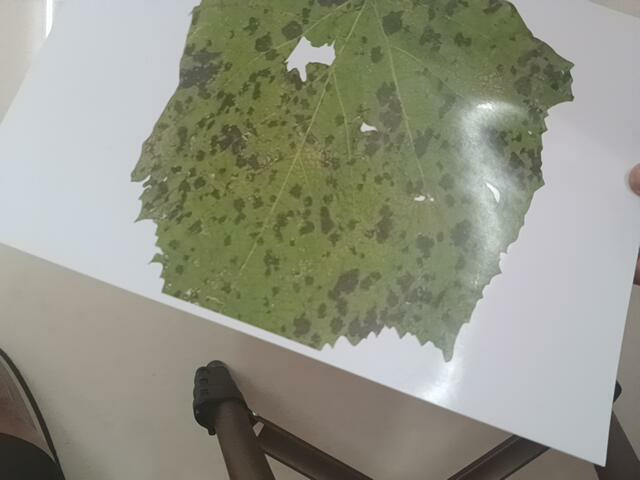Grape_Blight_Leaf: (154, 18, 532, 339)
